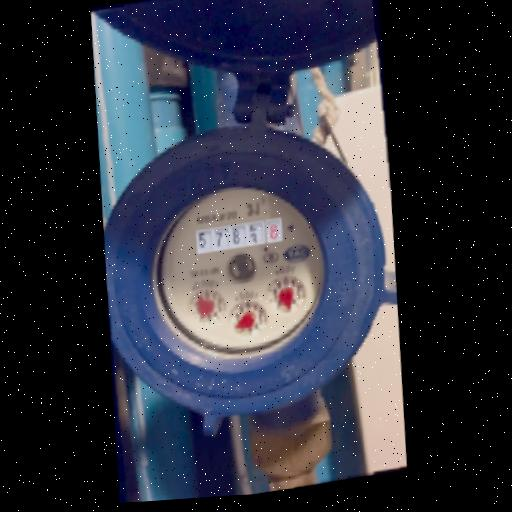2: (249, 224, 263, 244)
5: (197, 232, 212, 252)
7: (214, 228, 228, 248)
8: (232, 227, 246, 247), (266, 221, 280, 241)
border_water_meter_number: (195, 218, 283, 254)
